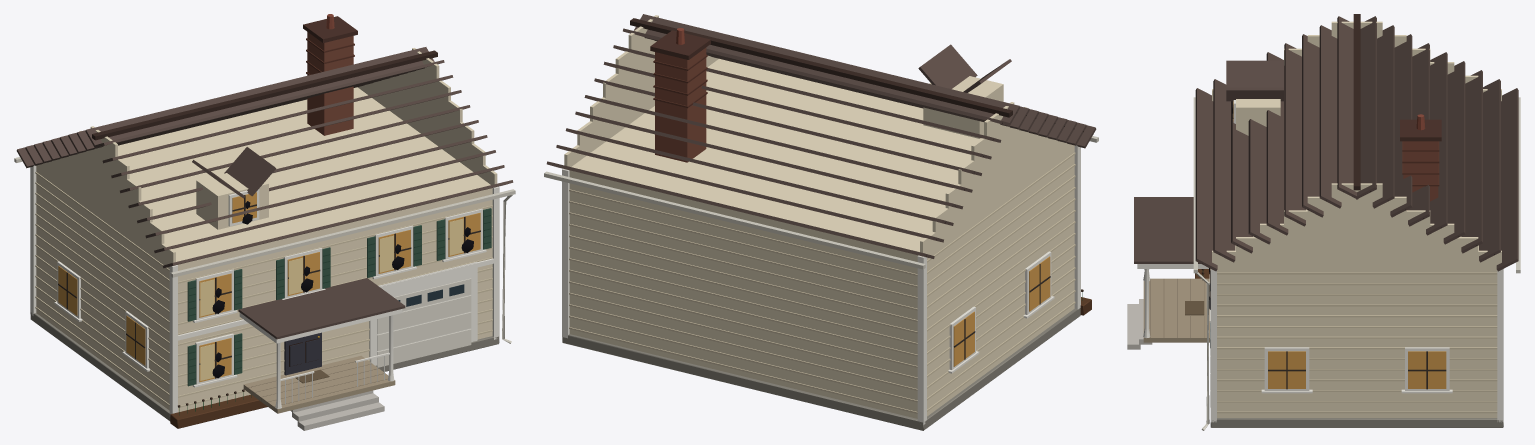
The model's file is suburb_house_watched.glb.
3 views of the same model, side by side, from view 1: azimuth 30°, elevation 25°; view 2: azimuth 150°, elevation 25°; view 3: azimuth 270°, elevation 25° (orthographic). The views are drawn at different scales.
Parts seen in each view (by area): view 1: suburb_house_watched; view 2: suburb_house_watched; view 3: suburb_house_watched.
Part boxes in pixels (x1,y1,x2,y2): suburb_house_watched: (14,14,515,430); suburb_house_watched: (544,14,1098,430); suburb_house_watched: (1127,14,1520,430).
Bounding box in the file's own units: 12.83 × 9.65 × 12.34.
